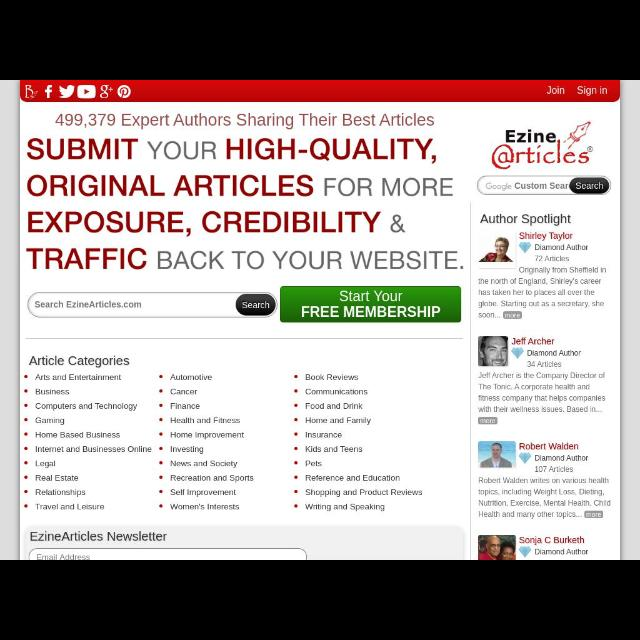image: (489, 121, 596, 170), (476, 228, 516, 266), (478, 442, 516, 468), (479, 336, 509, 366), (478, 536, 516, 558), (77, 84, 96, 100), (58, 84, 76, 100), (116, 84, 132, 100), (24, 84, 38, 100), (100, 84, 114, 100), (518, 242, 532, 254), (519, 452, 531, 466), (518, 546, 532, 558), (44, 84, 54, 100), (512, 346, 524, 359)
input: (27, 291, 277, 319), (27, 547, 309, 559), (477, 176, 613, 196)
text: (25, 137, 467, 270), (478, 266, 608, 320), (55, 111, 435, 129), (478, 372, 606, 424), (478, 478, 612, 518), (30, 531, 168, 543), (29, 355, 131, 369), (34, 300, 142, 312), (34, 444, 152, 454), (305, 488, 423, 498), (480, 214, 572, 226), (35, 402, 139, 412), (169, 472, 255, 483), (304, 503, 386, 513), (304, 474, 400, 482), (34, 502, 106, 512), (169, 416, 241, 426), (169, 502, 241, 512), (34, 374, 122, 382), (34, 431, 121, 439), (170, 432, 246, 441), (170, 460, 238, 470), (169, 488, 237, 498), (518, 536, 586, 546), (306, 417, 372, 427), (306, 401, 364, 411), (304, 388, 368, 397), (304, 372, 360, 382), (35, 488, 87, 498), (304, 445, 364, 453), (519, 442, 579, 450), (526, 349, 582, 357), (534, 548, 590, 556), (511, 336, 555, 346), (514, 182, 568, 190), (519, 232, 573, 240), (535, 243, 589, 251), (535, 454, 589, 462), (35, 473, 79, 482), (304, 431, 342, 441), (170, 373, 212, 382), (170, 445, 204, 455), (577, 85, 607, 96), (34, 388, 70, 397), (34, 416, 66, 426), (169, 402, 201, 412), (534, 466, 574, 474), (526, 360, 562, 368), (486, 182, 512, 192), (170, 388, 198, 397), (535, 255, 569, 262), (35, 459, 57, 469), (36, 554, 90, 558), (546, 85, 566, 95), (304, 459, 324, 467)
textbutton: (280, 288, 462, 322), (236, 294, 276, 316), (570, 178, 610, 195)
toolbar: (19, 80, 618, 102)
